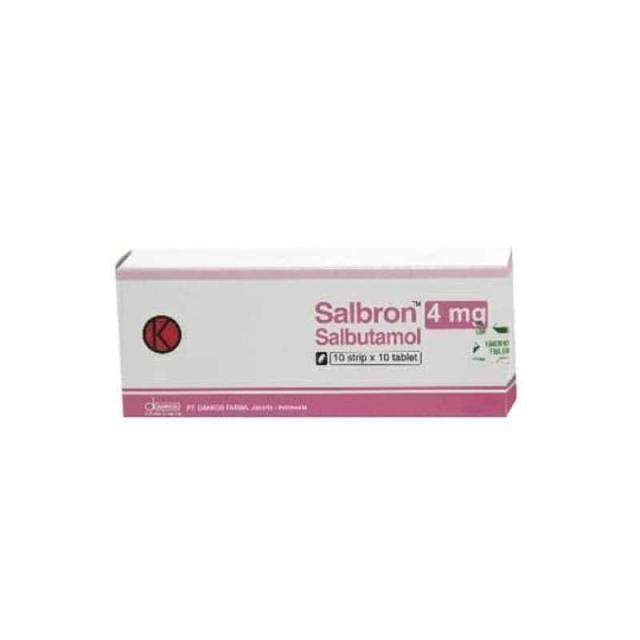drug-name: (310, 301, 418, 326)
